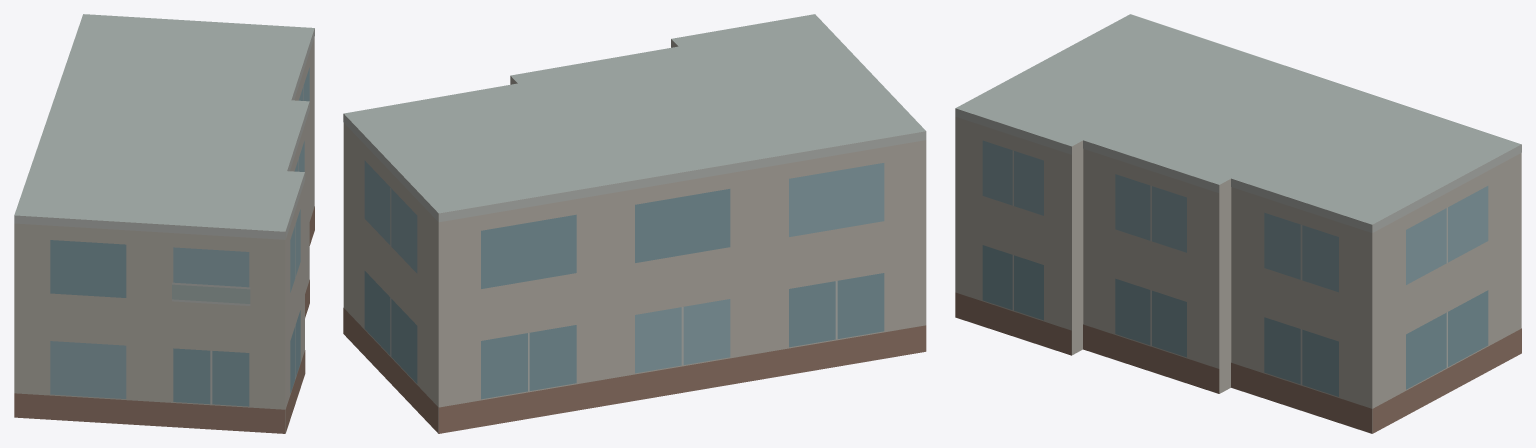
The model's file is survey-upis-32827364.glb.
3 views of the same model, side by side, from view 1: azimuth 30°, elevation 25°; view 2: azimuth 150°, elevation 25°; view 3: azimuth 270°, elevation 25° (orthographic). The views are drawn at different scales.
Parts seen in each view (by area): view 1: survey-upis-32827364.tmp; view 2: survey-upis-32827364.tmp; view 3: survey-upis-32827364.tmp.
Part boxes in pixels (left/top/right/bottom): survey-upis-32827364.tmp: left=14, top=14, right=314, bottom=433; survey-upis-32827364.tmp: left=343, top=14, right=926, bottom=433; survey-upis-32827364.tmp: left=955, top=14, right=1521, bottom=433.
Bounding box in the file's own units: 13.2 × 6.1 × 14.99.
